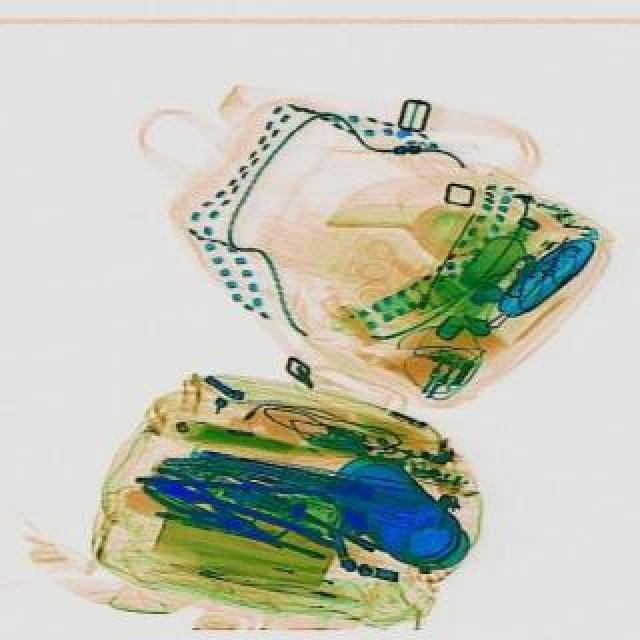wrench: (138, 458, 278, 556)
